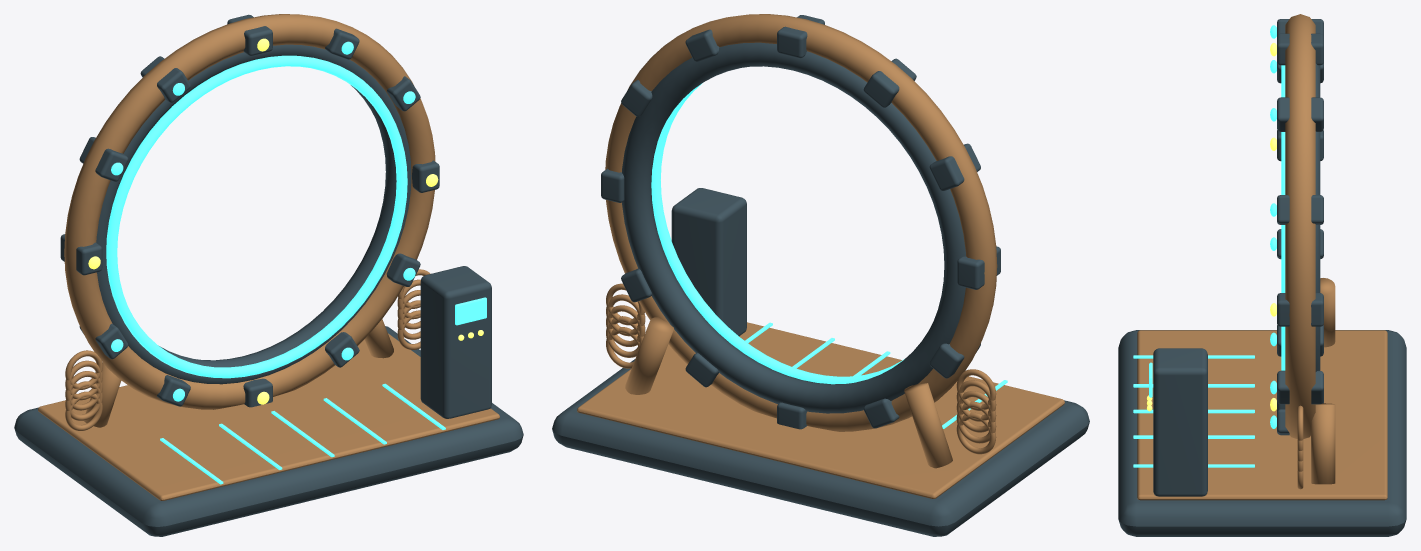
The model's file is einstein-teleporter.glb.
3 renders of one model, left to right at view 1: azimuth 30°, elevation 25°; view 2: azimuth 150°, elevation 25°; view 3: azimuth 270°, elevation 25°, orthographic. The views are drawn at different scales.
Parts seen in each view (by area): view 1: Copper deck trim, Outer copper portal, Landing plinth, Steel structural ring, Luminous ion channel, Control pedestal, Stabilizer, Radial coil.010, Radial coil.011, Radial coil.009, Radial coil, Stabilizer.001 (+8 smaller); view 2: Copper deck trim, Steel structural ring, Landing plinth, Outer copper portal, Control pedestal, Luminous ion channel, Stabilizer, Stabilizer.001, Radial coil.010, Radial coil.011, Radial coil.009, Radial coil (+8 smaller); view 3: Copper deck trim, Landing plinth, Outer copper portal, Control pedestal, Stabilizer.001, Steel structural ring, Luminous ion channel, Stabilizer, Radial coil.001, Radial coil.003, Radial coil.002, Radial coil.004 (+1 smaller).
Part boxes in pixels (<box>): Copper deck trim: <box>38,333,499,500</box>; Outer copper portal: <box>64,14,435,409</box>; Landing plinth: <box>14,326,523,536</box>; Steel structural ring: <box>96,44,411,384</box>; Luminous ion channel: <box>106,55,407,378</box>; Control pedestal: <box>420,266,491,418</box>; Stabilizer: <box>84,362,121,427</box>; Radial coil.010: <box>79,137,128,181</box>; Radial coil.011: <box>140,56,190,102</box>; Radial coil.009: <box>60,234,102,275</box>; Radial coil: <box>227,14,272,55</box>; Stabilizer.001: <box>364,319,393,358</box>; Copper deck trim: <box>577,322,1064,498</box>; Steel structural ring: <box>622,42,965,413</box>; Landing plinth: <box>552,359,1089,536</box>; Outer copper portal: <box>605,14,997,431</box>; Control pedestal: <box>671,188,746,336</box>; Luminous ion channel: <box>651,83,904,384</box>; Stabilizer: <box>904,383,952,468</box>; Stabilizer.001: <box>625,317,673,394</box>; Radial coil.010: <box>929,143,980,191</box>; Radial coil.011: <box>863,58,916,107</box>; Radial coil.009: <box>957,246,1000,289</box>; Radial coil: <box>777,15,824,58</box>; Copper deck trim: <box>1137,330,1387,500</box>; Landing plinth: <box>1118,330,1406,536</box>; Outer copper portal: <box>1285,14,1315,438</box>; Control pedestal: <box>1153,348,1207,496</box>; Stabilizer.001: <box>1311,403,1335,484</box>; Steel structural ring: <box>1315,63,1320,371</box>; Luminous ion channel: <box>1281,65,1285,370</box>; Stabilizer: <box>1320,278,1335,347</box>; Radial coil.001: <box>1277,97,1323,131</box>; Radial coil.003: <box>1277,293,1323,326</box>; Radial coil.002: <box>1277,195,1323,224</box>; Radial coil.004: <box>1277,370,1323,404</box>.
Bounding box in the file's own units: 2.9 × 3.02 × 1.9.
